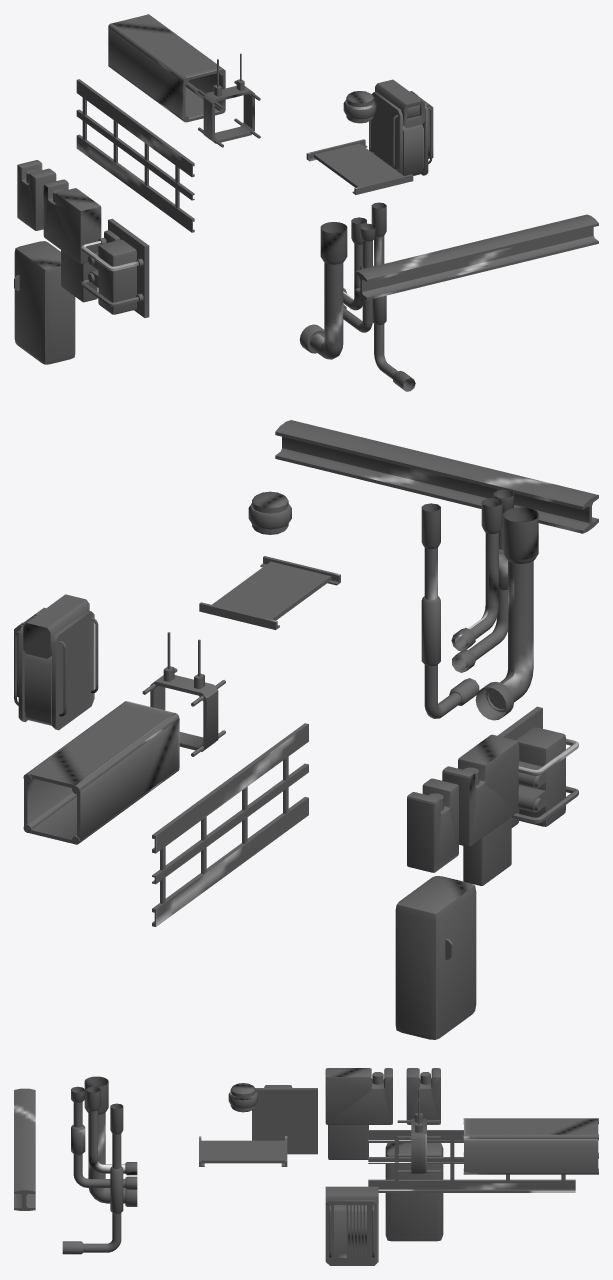
Rendered from Props_01_Gameready.FBX.
3 renders of one model, top to bottom at view 1: azimuth 30°, elevation 25°; view 2: azimuth 150°, elevation 25°; view 3: azimuth 270°, elevation 25°, orthographic. The views are drawn at different scales.
Visible parts, largest first — view 1: Props, Box892; view 2: Props, Box892; view 3: Props, Box892.
Boxes of the visible parts, <box> form: Props: <box>14,14,598,391</box>; Box892: <box>369,79,433,175</box>; Props: <box>23,420,598,1039</box>; Box892: <box>14,594,98,730</box>; Props: <box>14,1068,598,1254</box>; Box892: <box>325,1186,378,1265</box>.
Size of the model in its own units: 402 by 286 by 619.
1 material, 1 textured.
